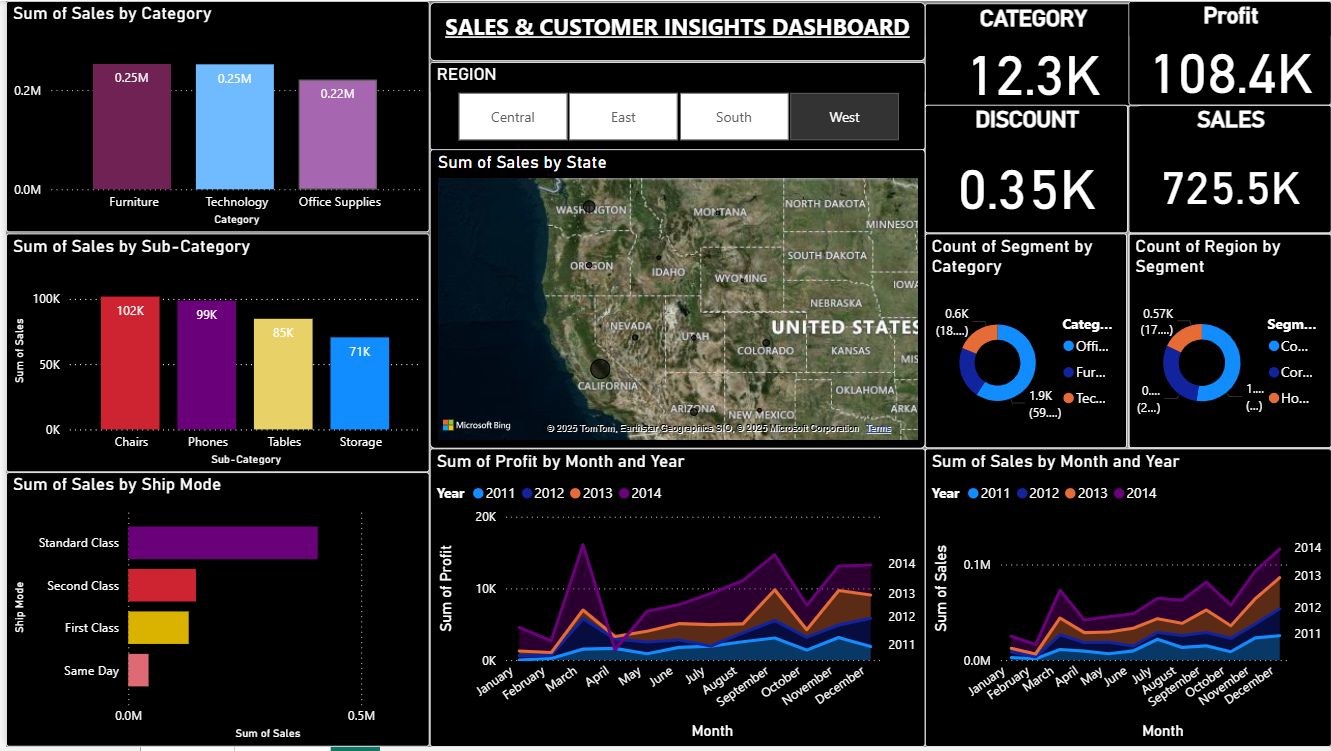

What the dashboard file says about the page in this screenshot:
{"tool":"powerbi","page":{"name":"Page 1","canvas":[1280,720],"ordinal":0},"visuals":[{"type":"clusteredColumnChart","fields":{"Category":["Orders.Category"],"Y":["Sum(Orders.Sales)"]},"box":[0,0,408.6,223.3],"z":0},{"type":"stackedAreaChart","fields":{"Y":["Sum(Orders.Sales)"],"Series":["Orders.Order Date.Variation.Date Hierarchy.Year"],"Category":["Orders.Order Date.Variation.Date Hierarchy.Month"]},"box":[887.1,431.9,392.6,288.3],"z":1000},{"type":"stackedAreaChart","fields":{"Series":["Orders.Order Date.Variation.Date Hierarchy.Year"],"Y":["Sum(Orders.Profit)"],"Category":["Orders.Order Date.Variation.Date Hierarchy.Month"]},"box":[408.6,431.9,478.5,288.3],"z":2000},{"type":"columnChart","fields":{"Category":["Orders.Sub-Category"],"Y":["Sum(Orders.Sales)"]},"box":[0,224.5,408.6,230.7],"z":3000},{"type":"barChart","fields":{"Category":["Orders.Ship Mode"],"Y":["Sum(Orders.Sales)"]},"box":[0,455.2,408.6,265],"z":4000},{"type":"donutChart","fields":{"Category":["Orders.Category"],"Y":["CountNonNull(Orders.Segment)"]},"box":[887.1,224.5,195.1,207.4],"z":5000},{"type":"donutChart","fields":{"Y":["CountNonNull(Orders.Region)"],"Category":["Orders.Segment"]},"box":[1083.4,224.5,196.3,207.4],"z":6000},{"type":"card","title":"SALES","fields":{"Values":["Sum(Orders.Sales)"]},"box":[1083.4,100.6,196.3,123.9],"z":7000},{"type":"card","title":"CATEGORY","fields":{"Values":["Sum(Orders.Quantity)"]},"box":[887.1,2.5,208.6,99.4],"z":8000},{"type":"card","title":"Profit","fields":{"Values":["Sum(Orders.Profit)"]},"box":[1083.4,0,196.3,100.6],"z":9000},{"type":"card","title":"DISCOUNT","fields":{"Values":["Sum(Orders.Discount)"]},"box":[887.1,100.6,196.3,123.9],"z":10000},{"type":"map","fields":{"Category":["Orders.State"],"Size":["Sum(Orders.Sales)"]},"box":[408.6,142.3,478.5,289.6],"z":11000},{"type":"slicer","title":"REGION","fields":{"Values":["Orders.Region"]},"box":[408.6,58.9,478.5,84.7],"z":12000},{"type":"textbox","box":[408.6,1.2,478.5,56.4],"z":13000}]}

Visuals, with their boxes in screenshot pixels (x1, y1, x2, y2), scaled from the page's 1280x720 canvas onto the 1331x751 screenshot:
clusteredColumnChart - Orders.Category x Sum(Orders.Sales): box=[0, 0, 425, 233]
stackedAreaChart - Sum(Orders.Sales) x Orders.Order Date.Variation.Date Hierarchy.Year: box=[922, 450, 1330, 750]
stackedAreaChart - Orders.Order Date.Variation.Date Hierarchy.Year x Sum(Orders.Profit): box=[425, 450, 922, 750]
columnChart - Orders.Sub-Category x Sum(Orders.Sales): box=[0, 234, 425, 475]
barChart - Orders.Ship Mode x Sum(Orders.Sales): box=[0, 475, 425, 750]
donutChart - Orders.Category x CountNonNull(Orders.Segment): box=[922, 234, 1125, 450]
donutChart - CountNonNull(Orders.Region) x Orders.Segment: box=[1127, 234, 1330, 450]
"SALES" card: box=[1127, 105, 1330, 234]
"CATEGORY" card: box=[922, 3, 1139, 106]
"Profit" card: box=[1127, 0, 1330, 105]
"DISCOUNT" card: box=[922, 105, 1127, 234]
map - Orders.State x Sum(Orders.Sales): box=[425, 148, 922, 450]
"REGION" slicer: box=[425, 61, 922, 150]
textbox: box=[425, 1, 922, 60]
